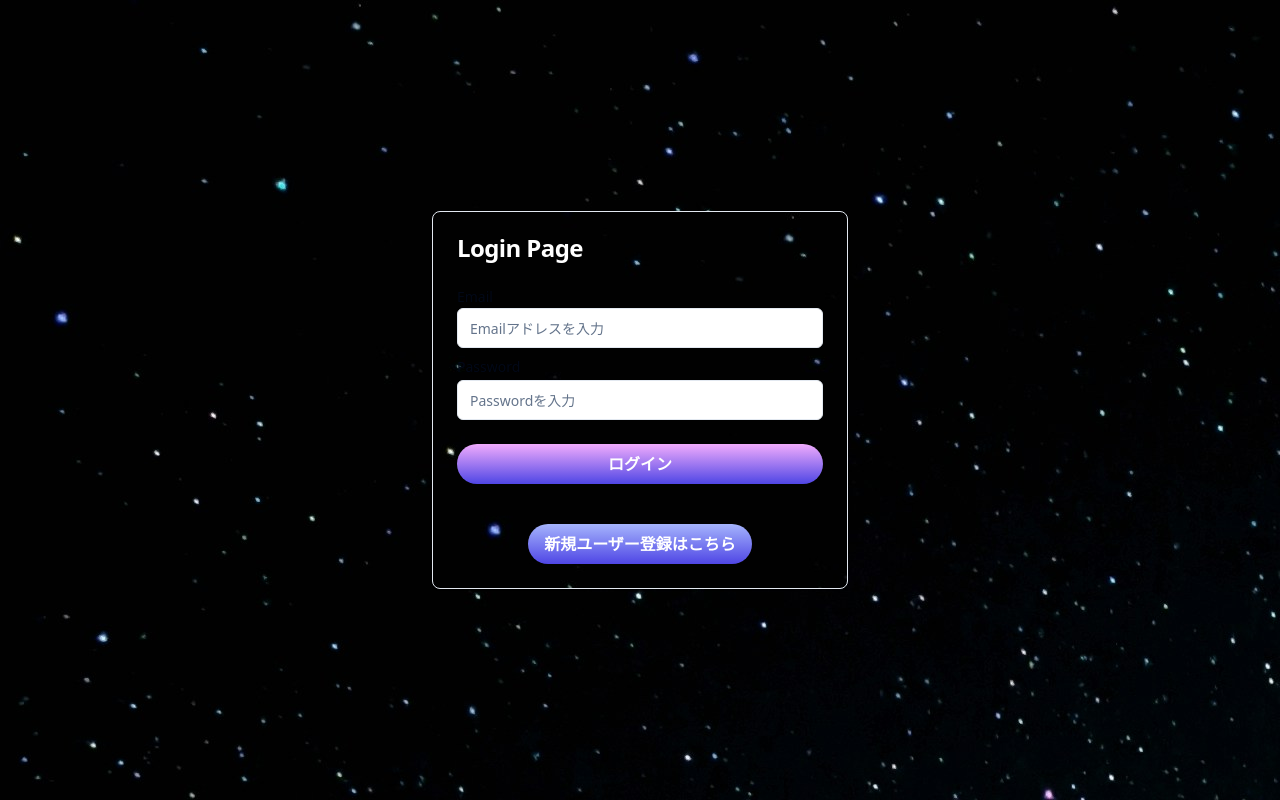
LoginPage › emailが未入力の場合にエラーメッセージが表示されること
This screenshot has width=1280, height=800.
Click the button with test id "login-button". click: (640, 464)
box: [457,444,823,484]
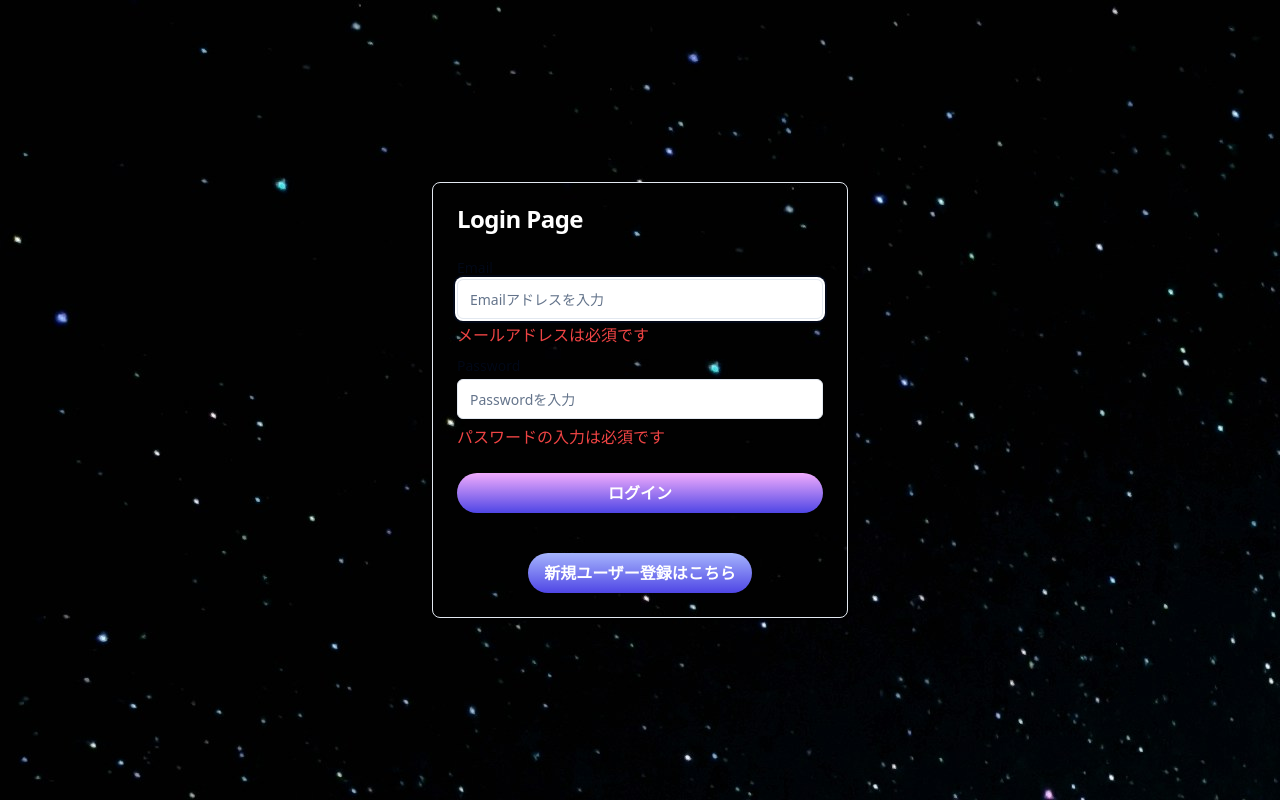
Check: the text "メールアドレスは必須です" is shown, box [457,324,649,346]
